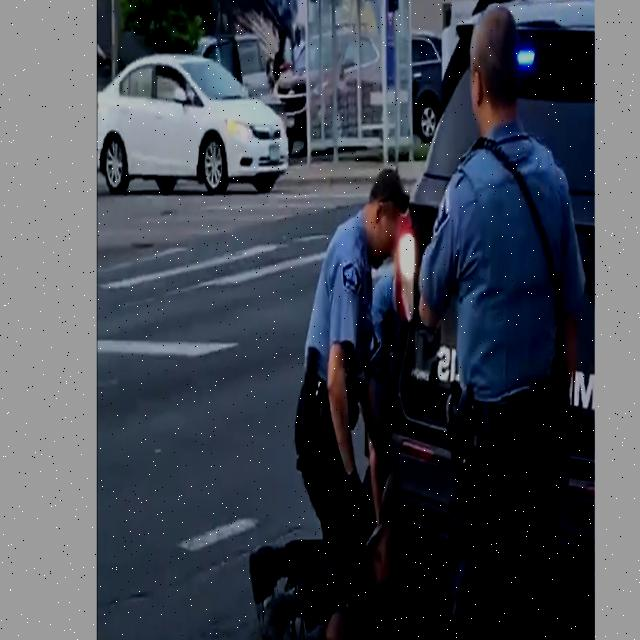police: (434, 0, 583, 640), (250, 160, 409, 624)
